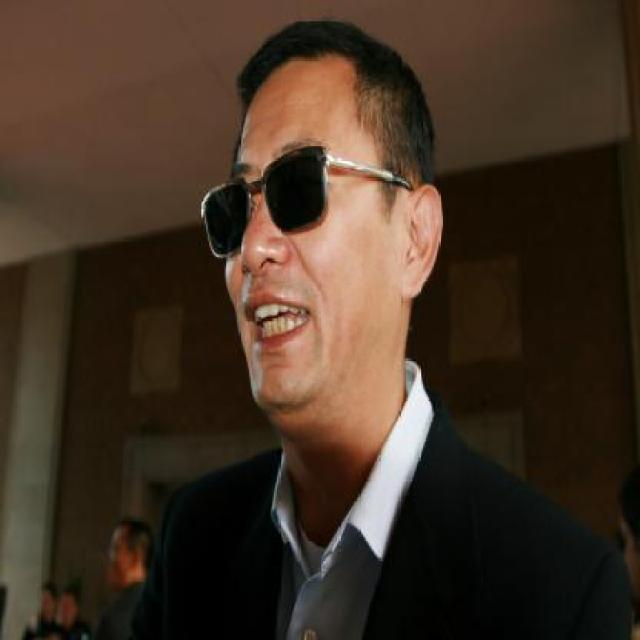face_nomask: (201, 144, 348, 371)
glasses: (198, 134, 399, 246)
head_nohelmet: (234, 24, 409, 111)
